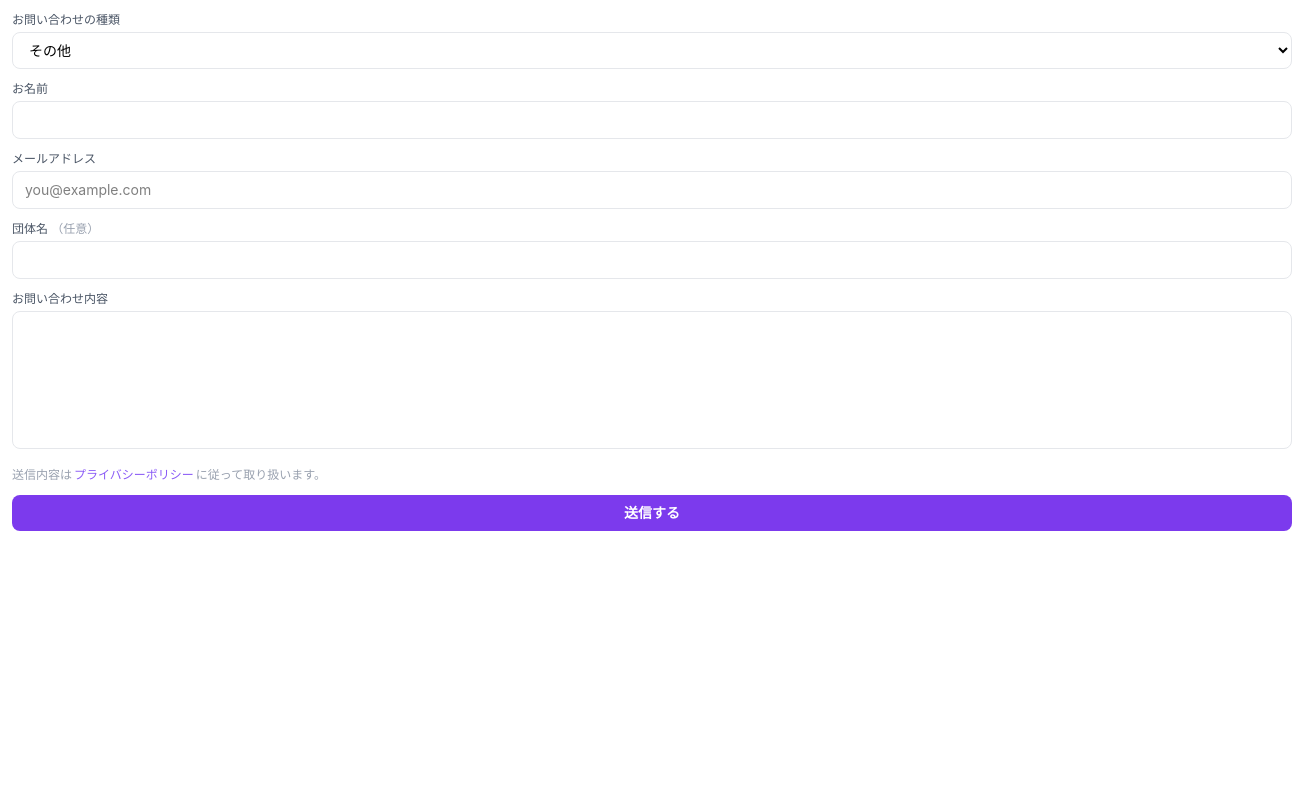
Scenario: InquiryForm › その他の失敗時は汎用メッセージを表示する
The width and height of the screenshot is (1304, 812).
Type "山田 太郎" into the field labelled "お名前" at x=652, y=120, box [12,101,1292,139]
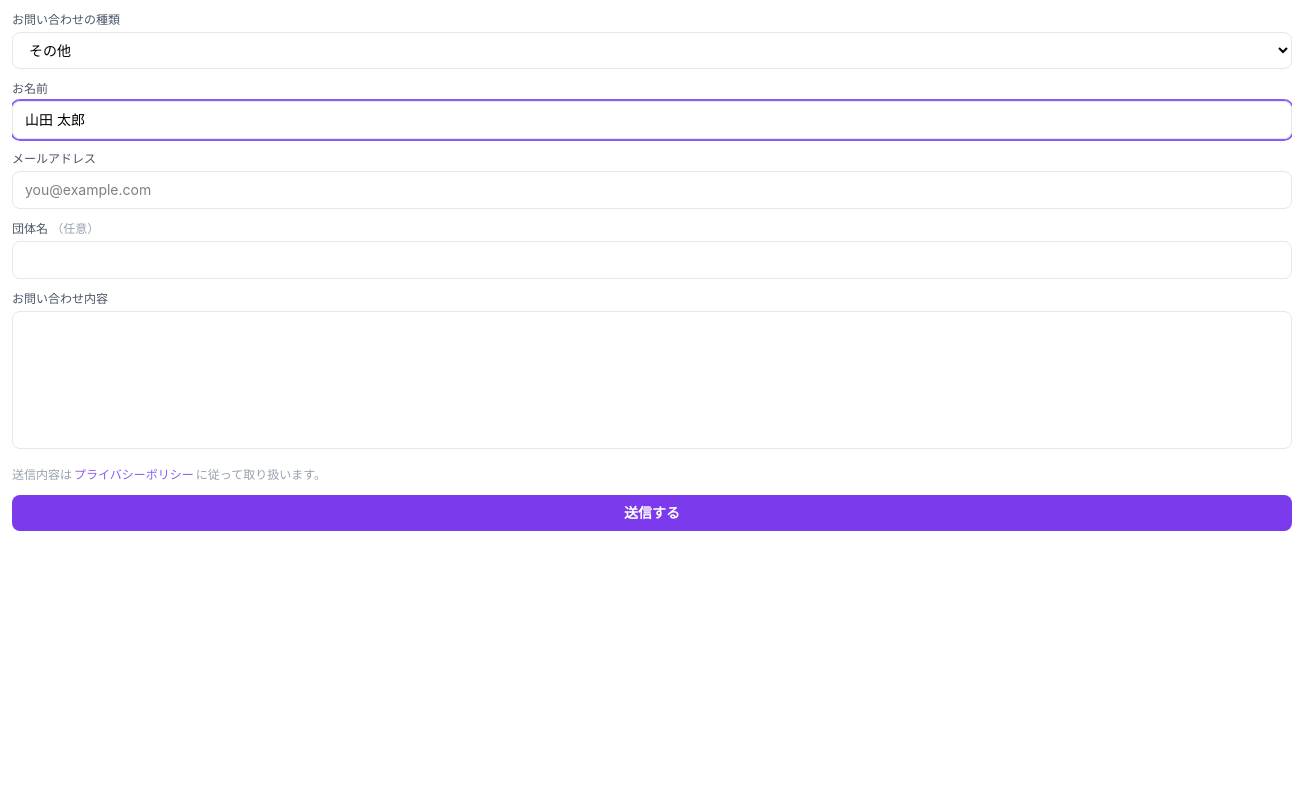
Type "yamada@example.com" into the field labelled "メールアドレス" at x=652, y=190, box [12,171,1292,209]
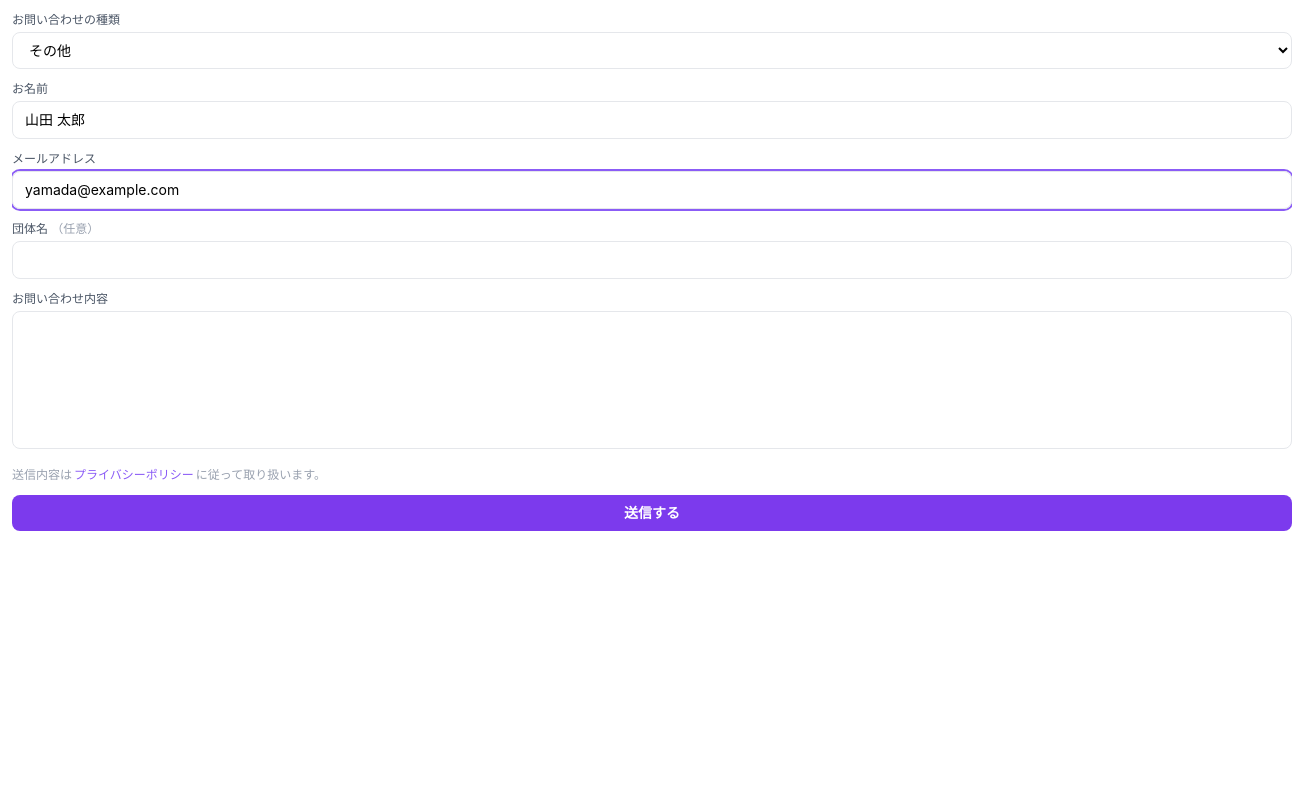
Type "団体を復元してください" into the text box labelled "お問い合わせ内容" at x=652, y=380, box [12,311,1292,449]
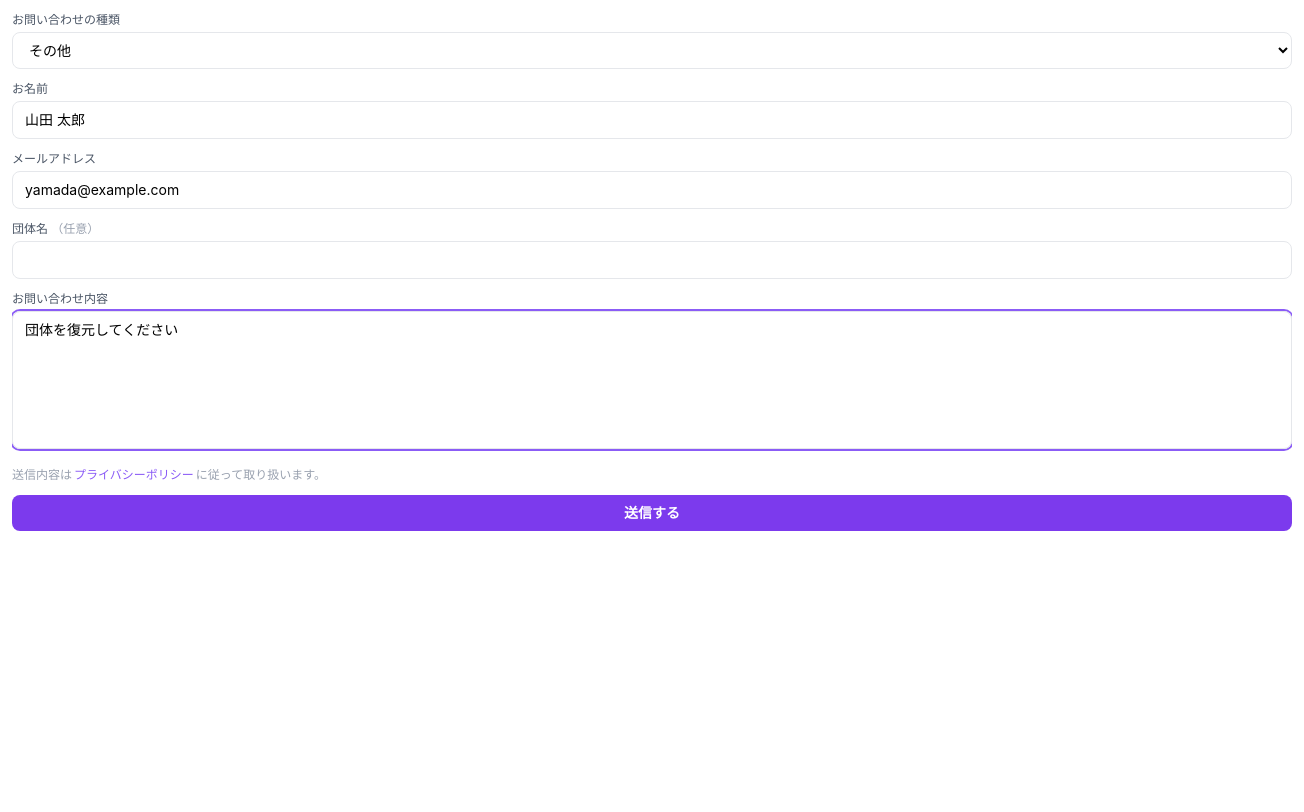
Click the button "送信する" at x=652, y=513, box [12,495,1292,531]
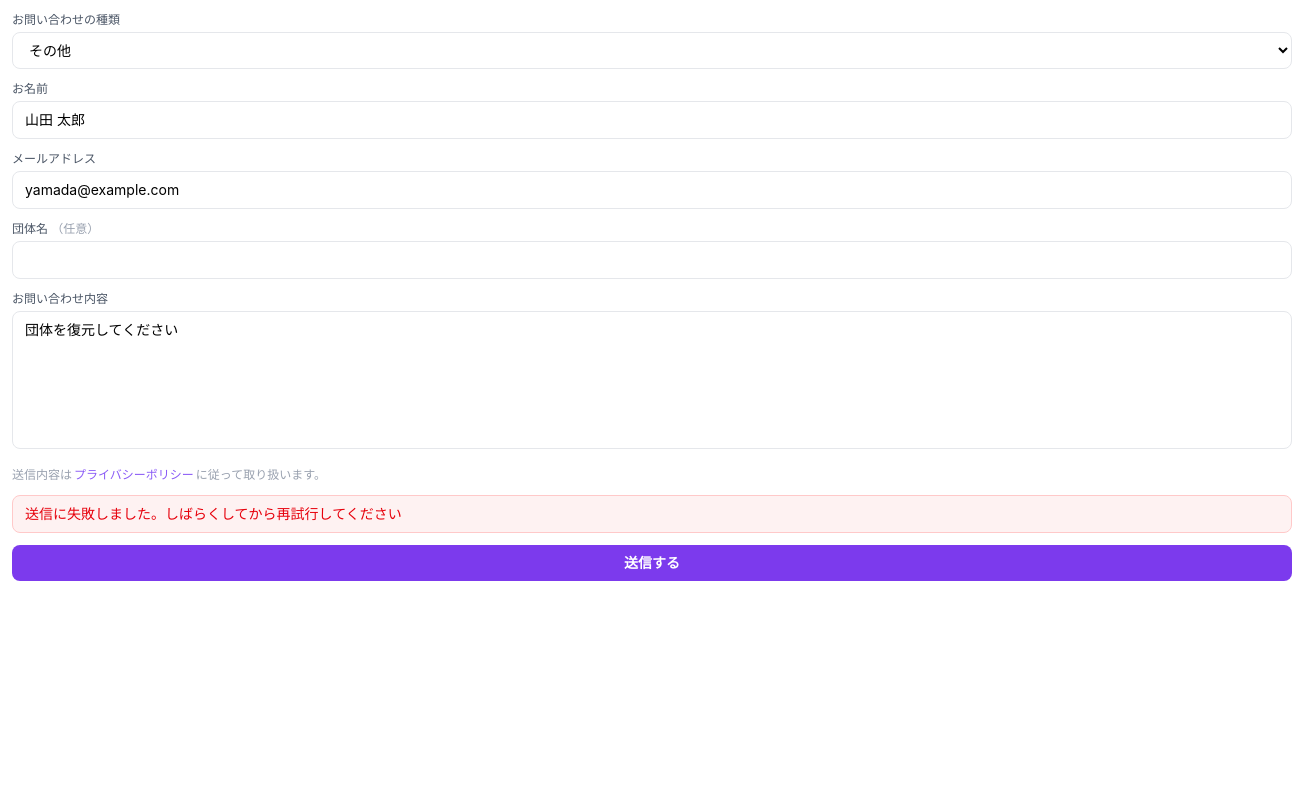
expect the message shows "送信に失敗しました": met, box [25,505,402,522]
